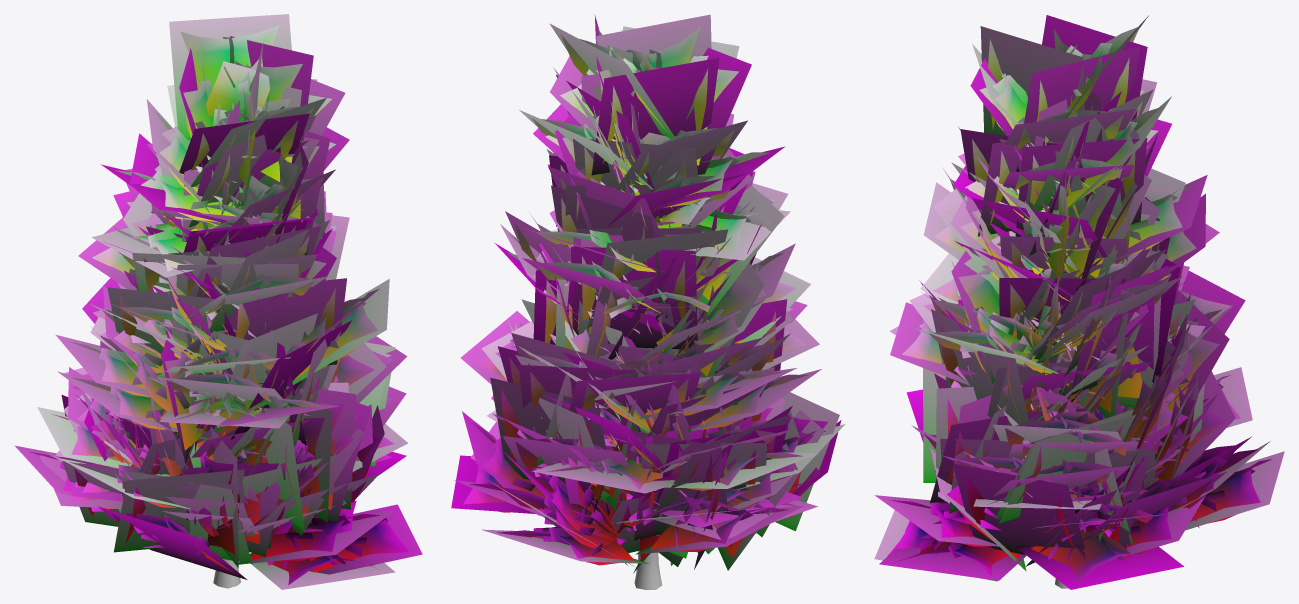
Rendered from pine_02_4.fbx.
3 renders of one model, left to right at view 1: azimuth 30°, elevation 25°; view 2: azimuth 150°, elevation 25°; view 3: azimuth 270°, elevation 25°, orthographic. The views are drawn at different scales.
Visible parts, largest first — view 1: pine_leaves_02_4_shadow, pine_leaves_02_4_lod_0; view 2: pine_leaves_02_4_shadow, pine_leaves_02_4_lod_0, pine_tree_02_4_lod_0; view 3: pine_leaves_02_4_shadow, pine_leaves_02_4_lod_0.
Part boxes in pixels (x1,y1,x2,y2): pine_leaves_02_4_shadow: (15,14,422,589); pine_leaves_02_4_lod_0: (29,25,409,584); pine_leaves_02_4_shadow: (451,14,845,573); pine_leaves_02_4_lod_0: (463,27,827,565); pine_tree_02_4_lod_0: (634,550,661,589); pine_leaves_02_4_shadow: (874,15,1284,589); pine_leaves_02_4_lod_0: (887,27,1271,583).
Size of what is drawn, in the model's own units: 6.49 by 9.61 by 6.39.
